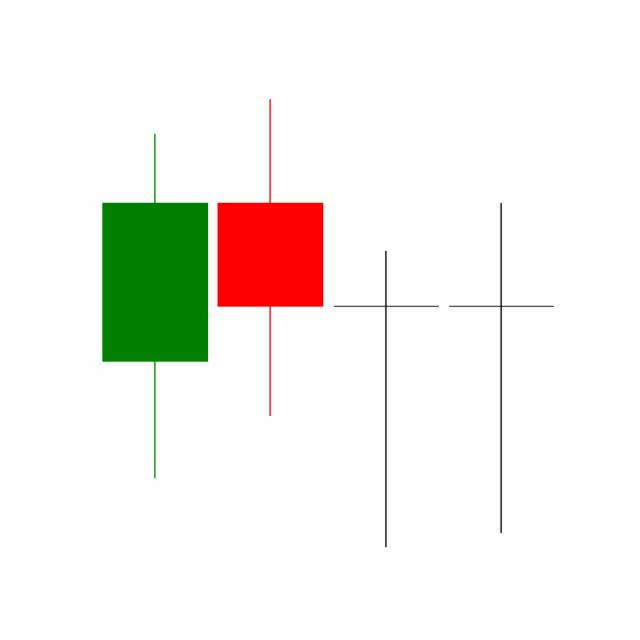Spinning Top: (328, 247, 444, 550)
